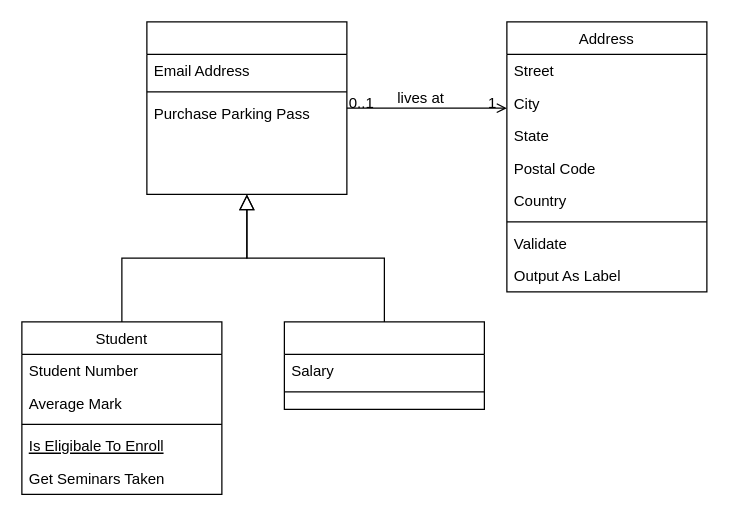
Image size: 729x520. Some labels were removed from this diagram. The shapes that lost their labels are listed below. From the top down, each one's box as (x1, y1, x2, y2) in pixels, then its label:
(146, 21, 347, 194): Person
(283, 321, 484, 409): Professor
